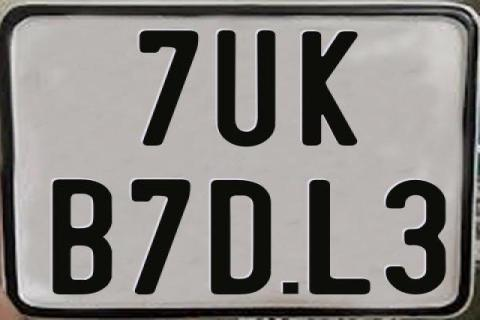0: (386, 178, 451, 296), (136, 30, 199, 146), (129, 178, 190, 296)
B: (53, 178, 115, 294)
D: (212, 180, 272, 296)
K: (302, 29, 358, 147)
L: (309, 180, 373, 298)
U: (216, 29, 279, 149)
